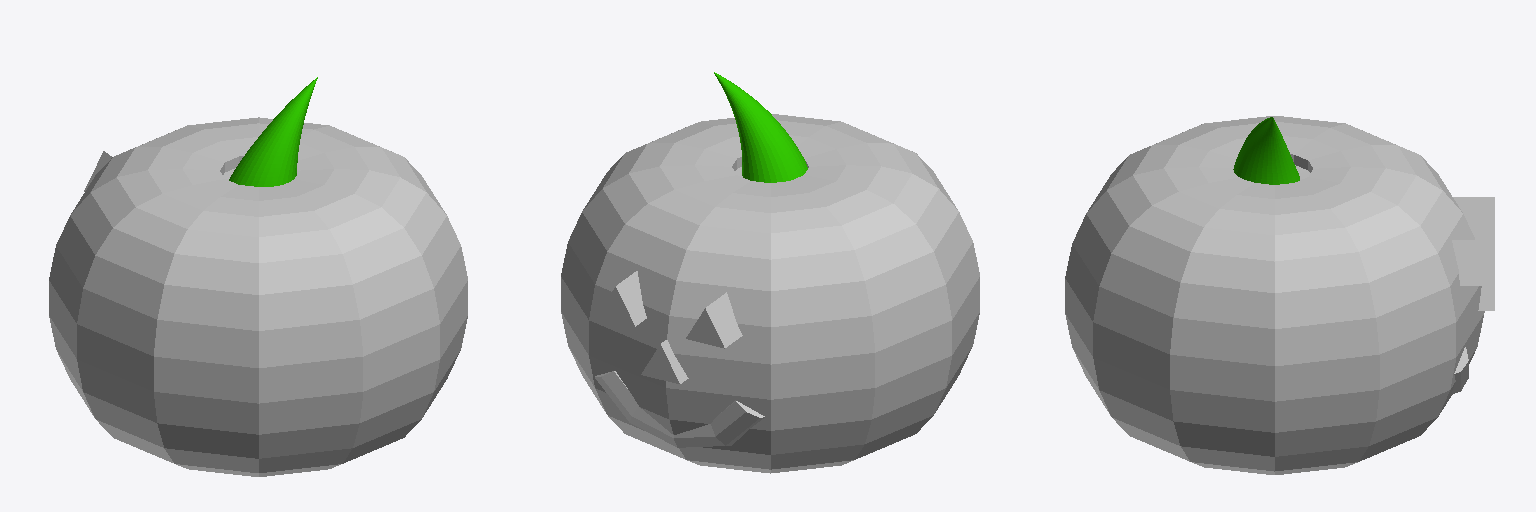
File: pumpkin.obj
3 renders of one model, left to right at view 1: azimuth 30°, elevation 25°; view 2: azimuth 150°, elevation 25°; view 3: azimuth 270°, elevation 25°, orthographic.
Parts seen in each view (by area): view 1: Sphere_Sphere.001, Cone_Cone.001; view 2: Sphere_Sphere.001, Torus, Cone_Cone.001; view 3: Sphere_Sphere.001, Torus, Cone_Cone.001.
Part boxes in pixels (x1,y1,x2,y2): Sphere_Sphere.001: (49, 117, 467, 476); Cone_Cone.001: (229, 77, 317, 186); Sphere_Sphere.001: (561, 114, 979, 473); Torus: (595, 271, 764, 447); Cone_Cone.001: (714, 72, 807, 182); Sphere_Sphere.001: (1065, 116, 1484, 474); Torus: (1451, 197, 1494, 394); Cone_Cone.001: (1233, 117, 1299, 184).
Bounding box in the file's own units: 1.99 × 1.76 × 2.04.